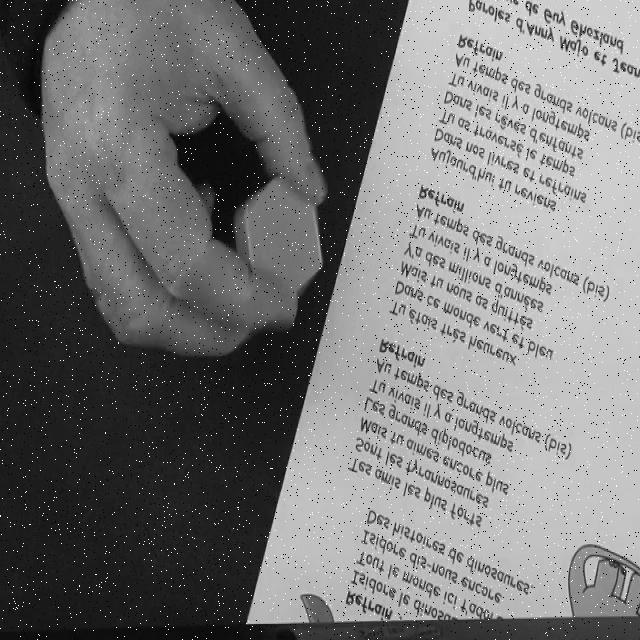hexagon: (233, 175, 326, 300)
